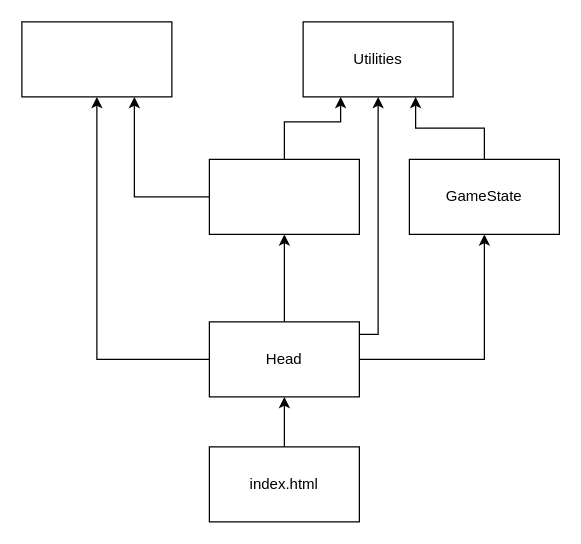
The diagram is 581 pixels wide and 544 high, and some of its shapes have lost their labels. The shapes that lost their labels are listed below. From the top down, each one's centre as x and y in pixels, then its label:
At (96,59): "Sound".
At (283,196): "GameObject".
